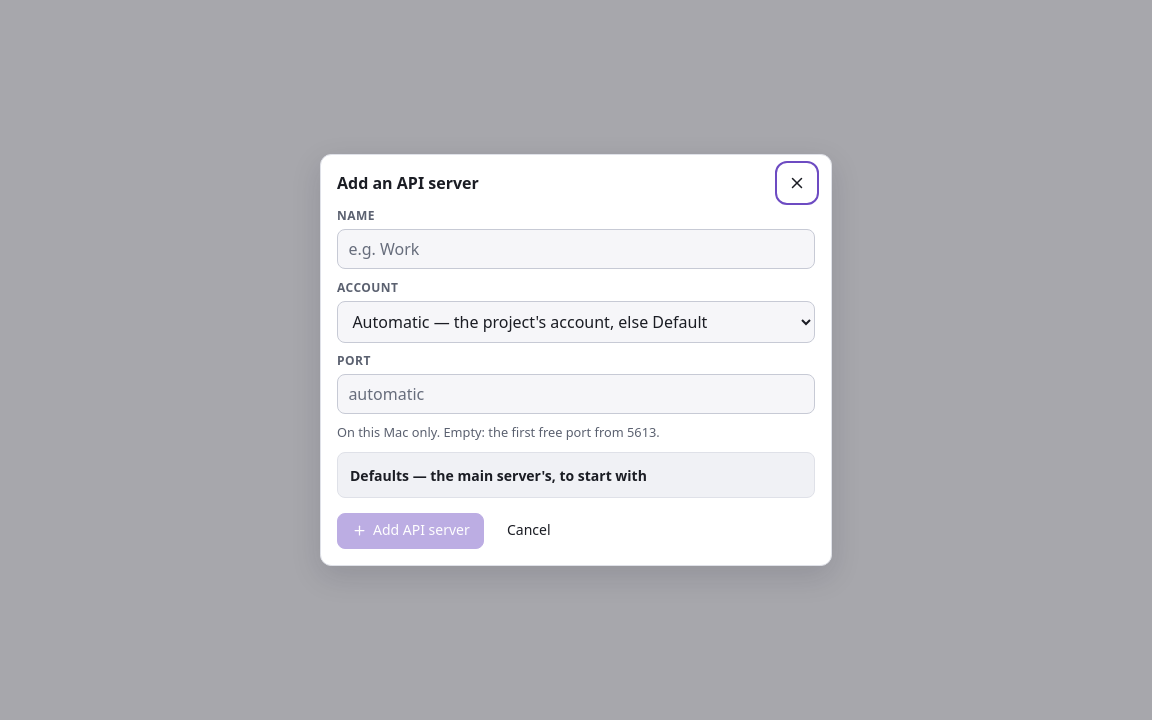
Test: ApiServerSheetComponent › says whose a refused port is
Type "Lab" into the field labelled "Name".
click(576, 249); type("Lab")  # box [337,229,815,269]
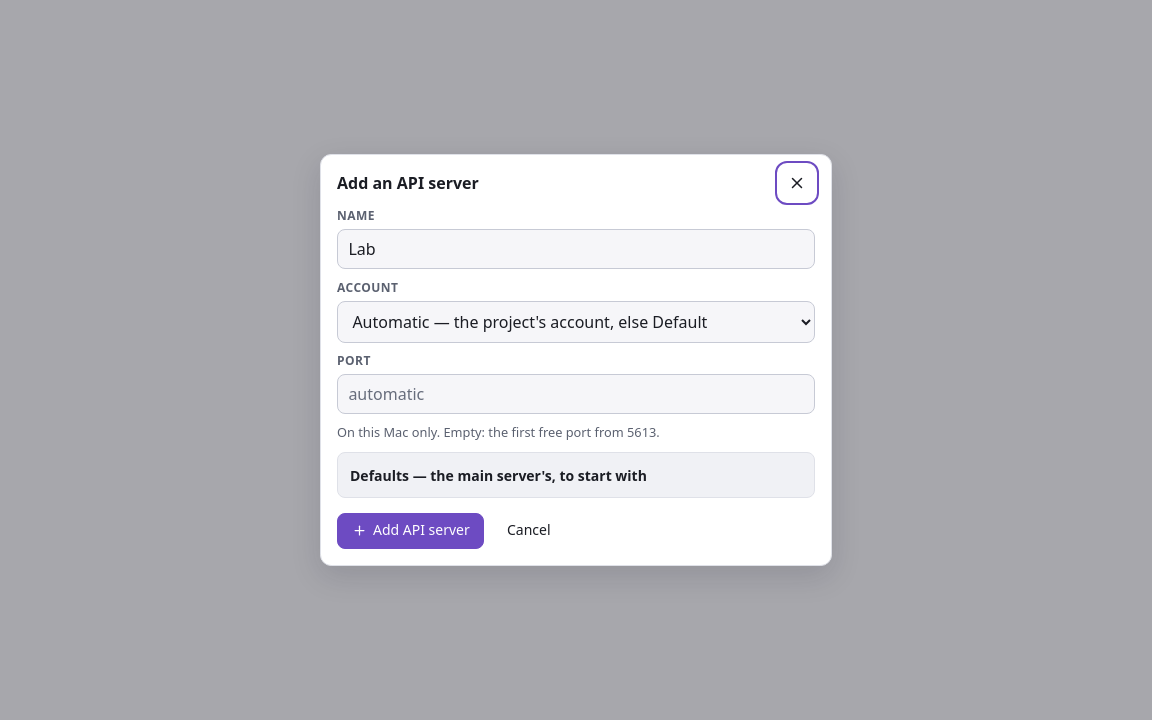
Type "6000" into the field labelled "Port".
click(576, 394); type("6000")  # box [337,374,815,414]
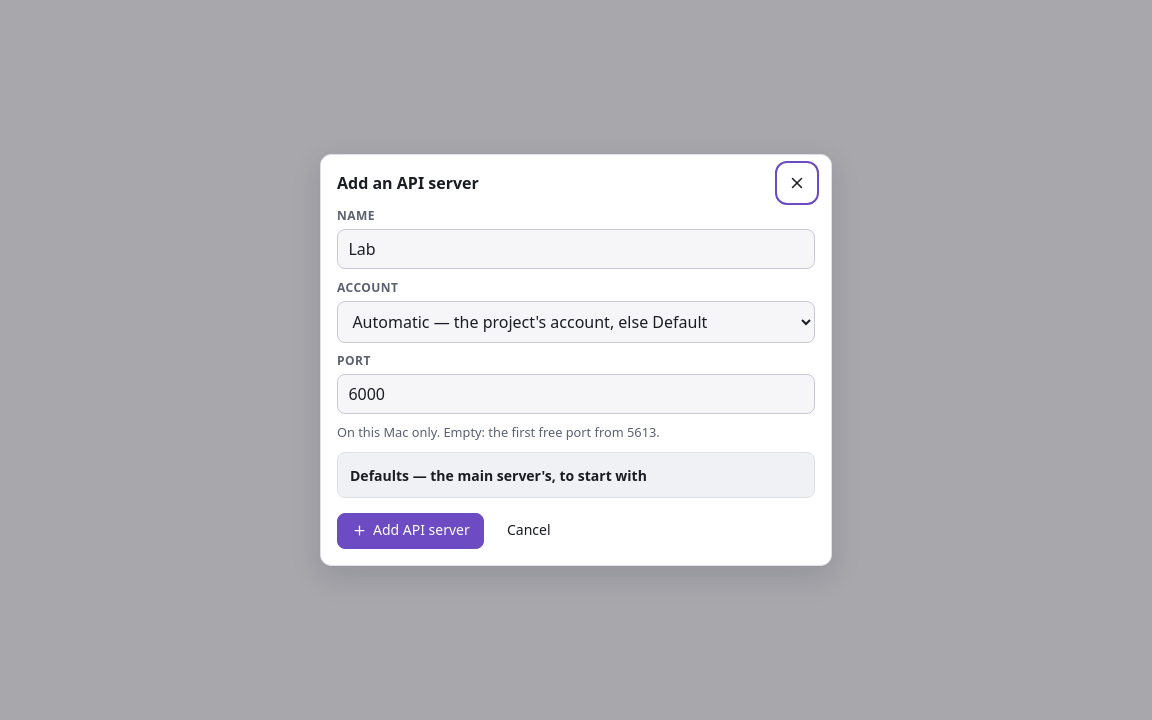
Click the submit button.
click(411, 531)  # box [337,513,484,549]
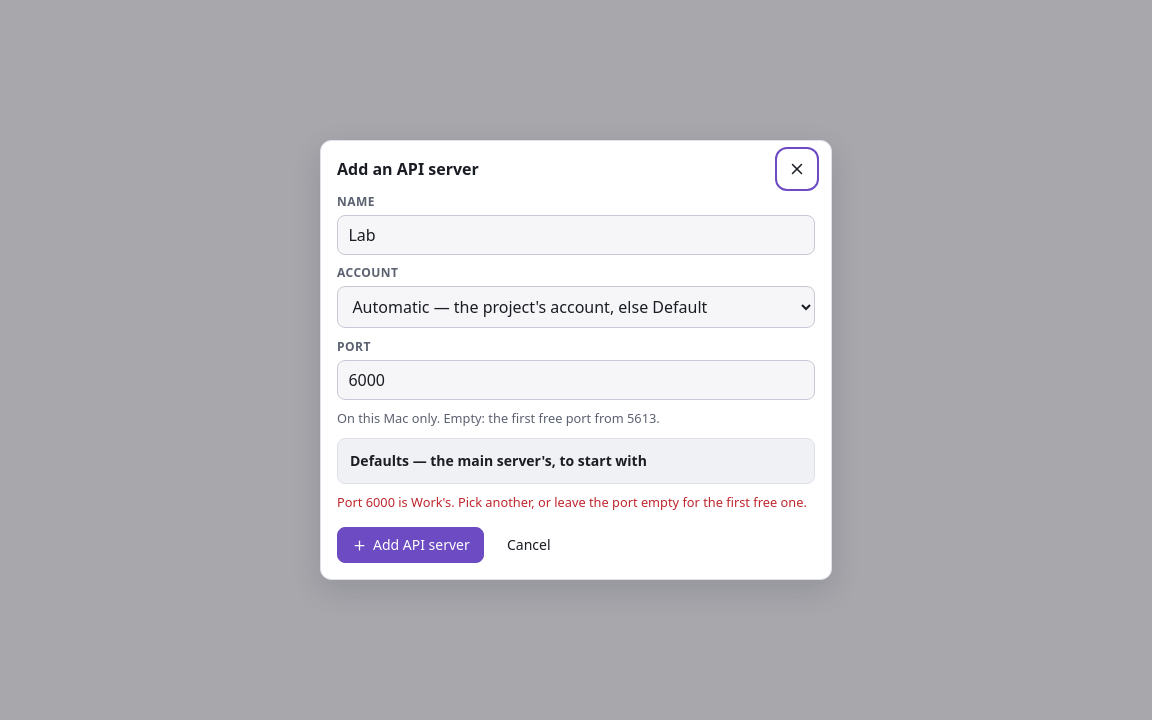
Expected: the message shows "Port 6000 is Work's. Pick another, or leave the port empty for the first free one.", [337,494,807,512]
